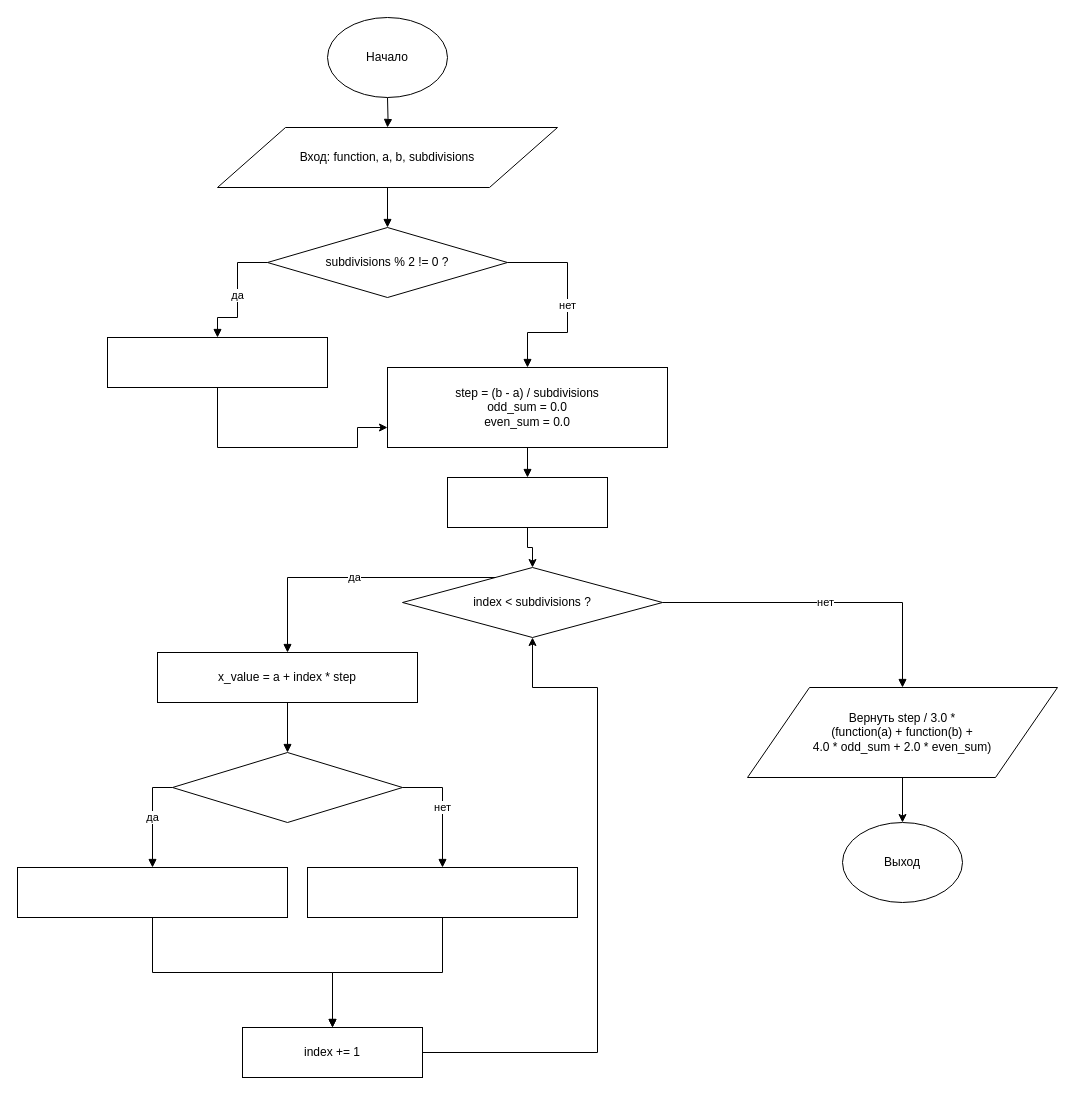
The diagram is 1075 pixels wide and 1095 high, and some of its shapes have lost their labels. Each missing label, with the centre of its shape:
"even_sum += function(x_value)" goes at point 152,892.
"index % 2 == 0 ?" goes at point 287,787.
"index = 1" goes at point 527,502.
"odd_sum += function(x_value)" goes at point 442,892.
"subdivisions += 1" goes at point 217,362.
